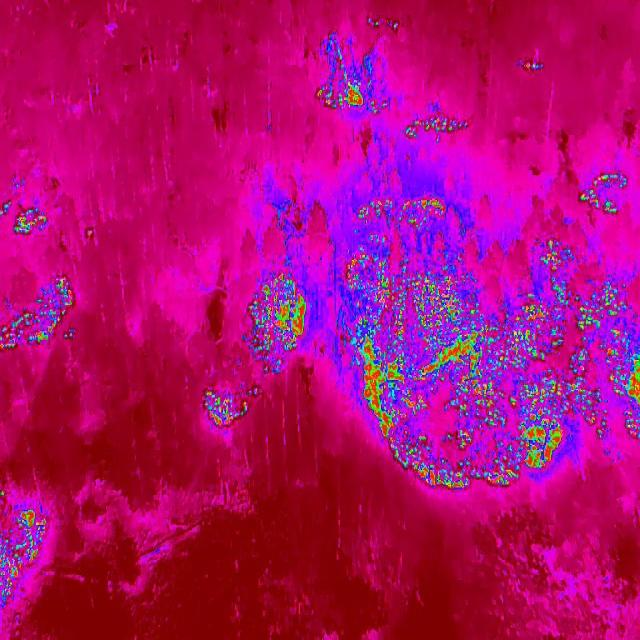fire: (338, 191, 574, 498), (573, 274, 640, 444), (244, 270, 314, 374), (1, 487, 54, 622), (0, 273, 79, 351), (313, 53, 383, 125), (402, 104, 477, 154), (577, 163, 629, 215), (1, 193, 56, 242), (200, 387, 252, 432), (368, 14, 407, 37), (515, 52, 547, 78), (82, 228, 96, 240)
